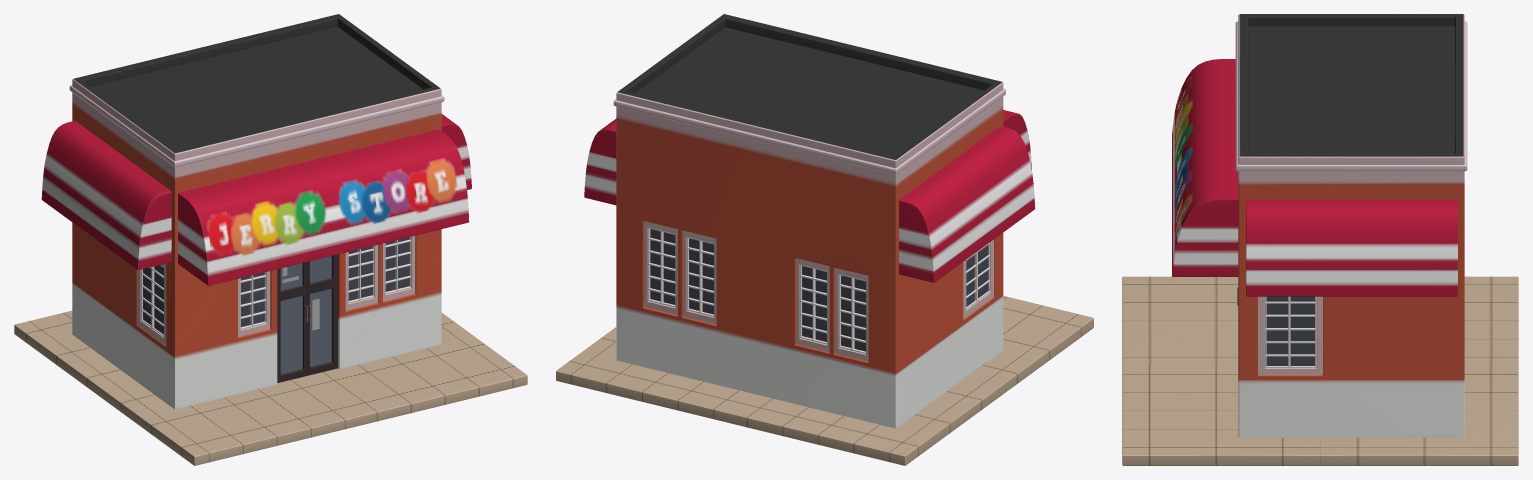
File: 젤리빌딩.fbx
The picture shows the model from 3 angles, left to right: view 1: azimuth 30°, elevation 25°; view 2: azimuth 150°, elevation 25°; view 3: azimuth 270°, elevation 25°; orthographic projection. The views are drawn at different scales.
Visible parts, largest first — view 1: node_id177; view 2: node_id177; view 3: node_id177.
Part boxes in pixels (x1,y1,x2,y2): node_id177: (14,14,527,465); node_id177: (556,14,1093,465); node_id177: (1122,14,1518,465).
Bounding box in the file's own units: 0.512 × 0.3884 × 0.4787.
Materials: 1 (1 with a texture image).
